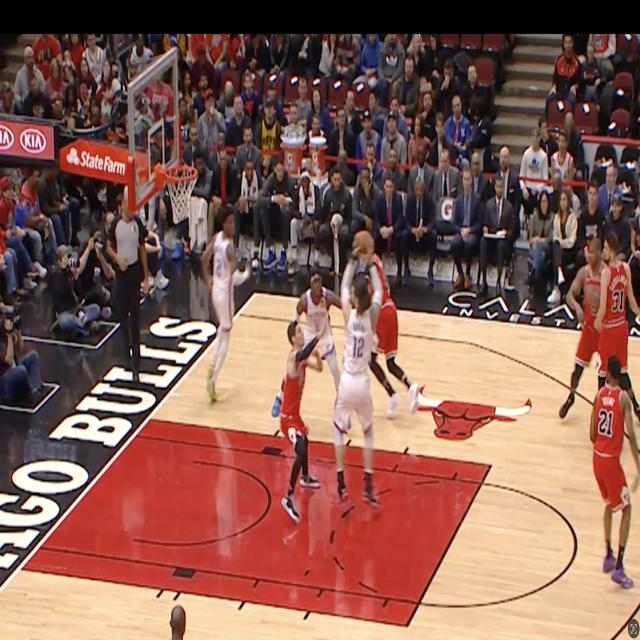no foul: (277, 240, 395, 516), (572, 243, 634, 457)
